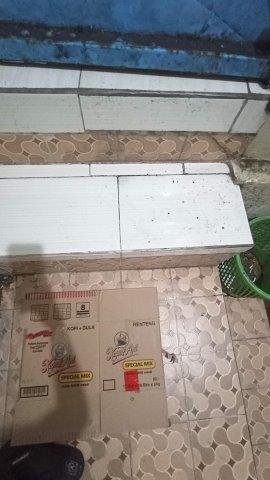kardus: (13, 289, 167, 438)
